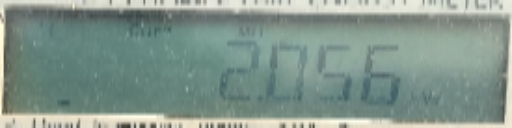0: (266, 39, 311, 106)
2: (213, 34, 264, 103)
5: (314, 43, 355, 111)
6: (360, 38, 405, 114)
d: (254, 85, 269, 109)
